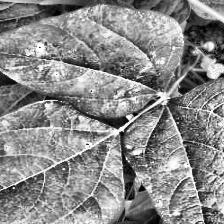Bean Rust: (0, 4, 181, 114), (0, 104, 125, 224), (128, 74, 224, 223)
